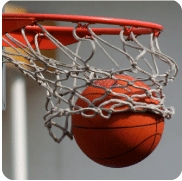basketball: (72, 74, 165, 168)
